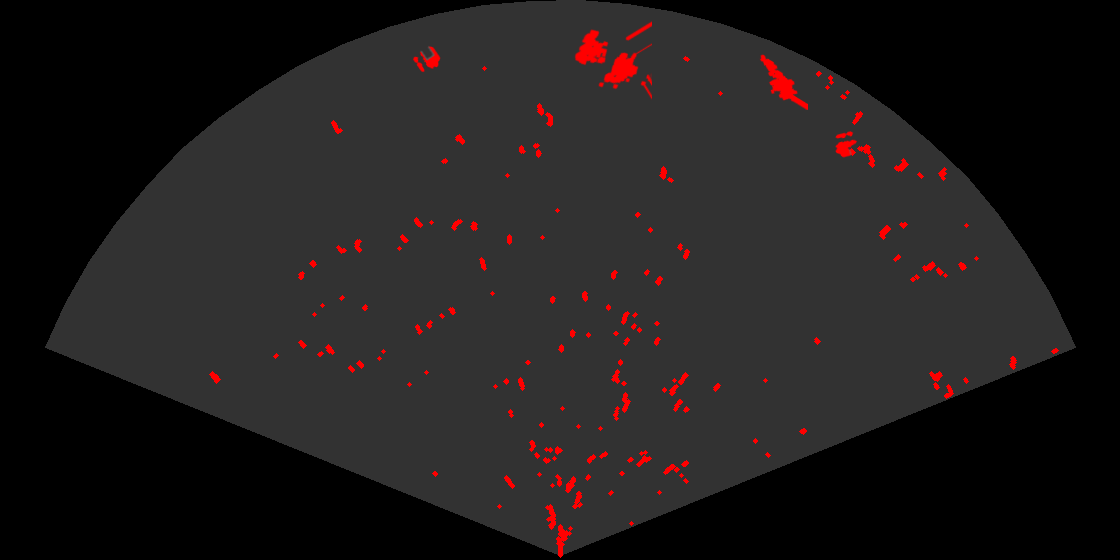ball: (411, 44, 442, 74), (834, 130, 859, 159)
cage: (573, 19, 652, 101)
frogman: (758, 53, 808, 110)
